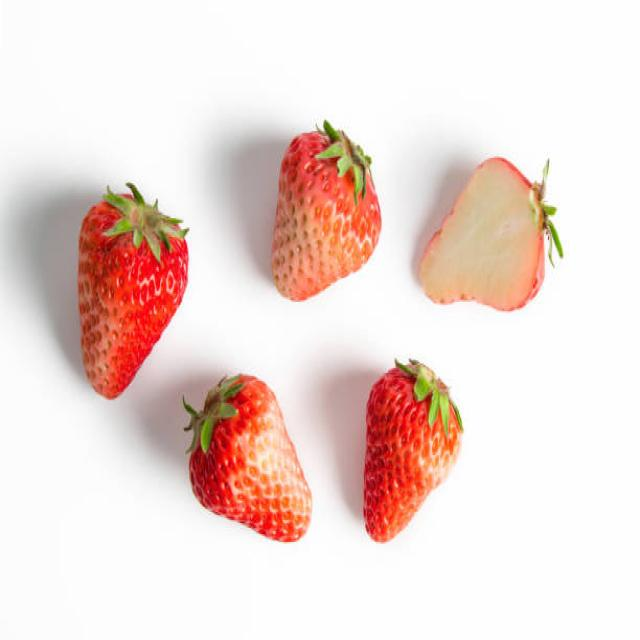Healthy Fruit: (78, 192, 189, 401), (189, 372, 314, 543), (271, 129, 382, 302), (362, 370, 460, 544)
